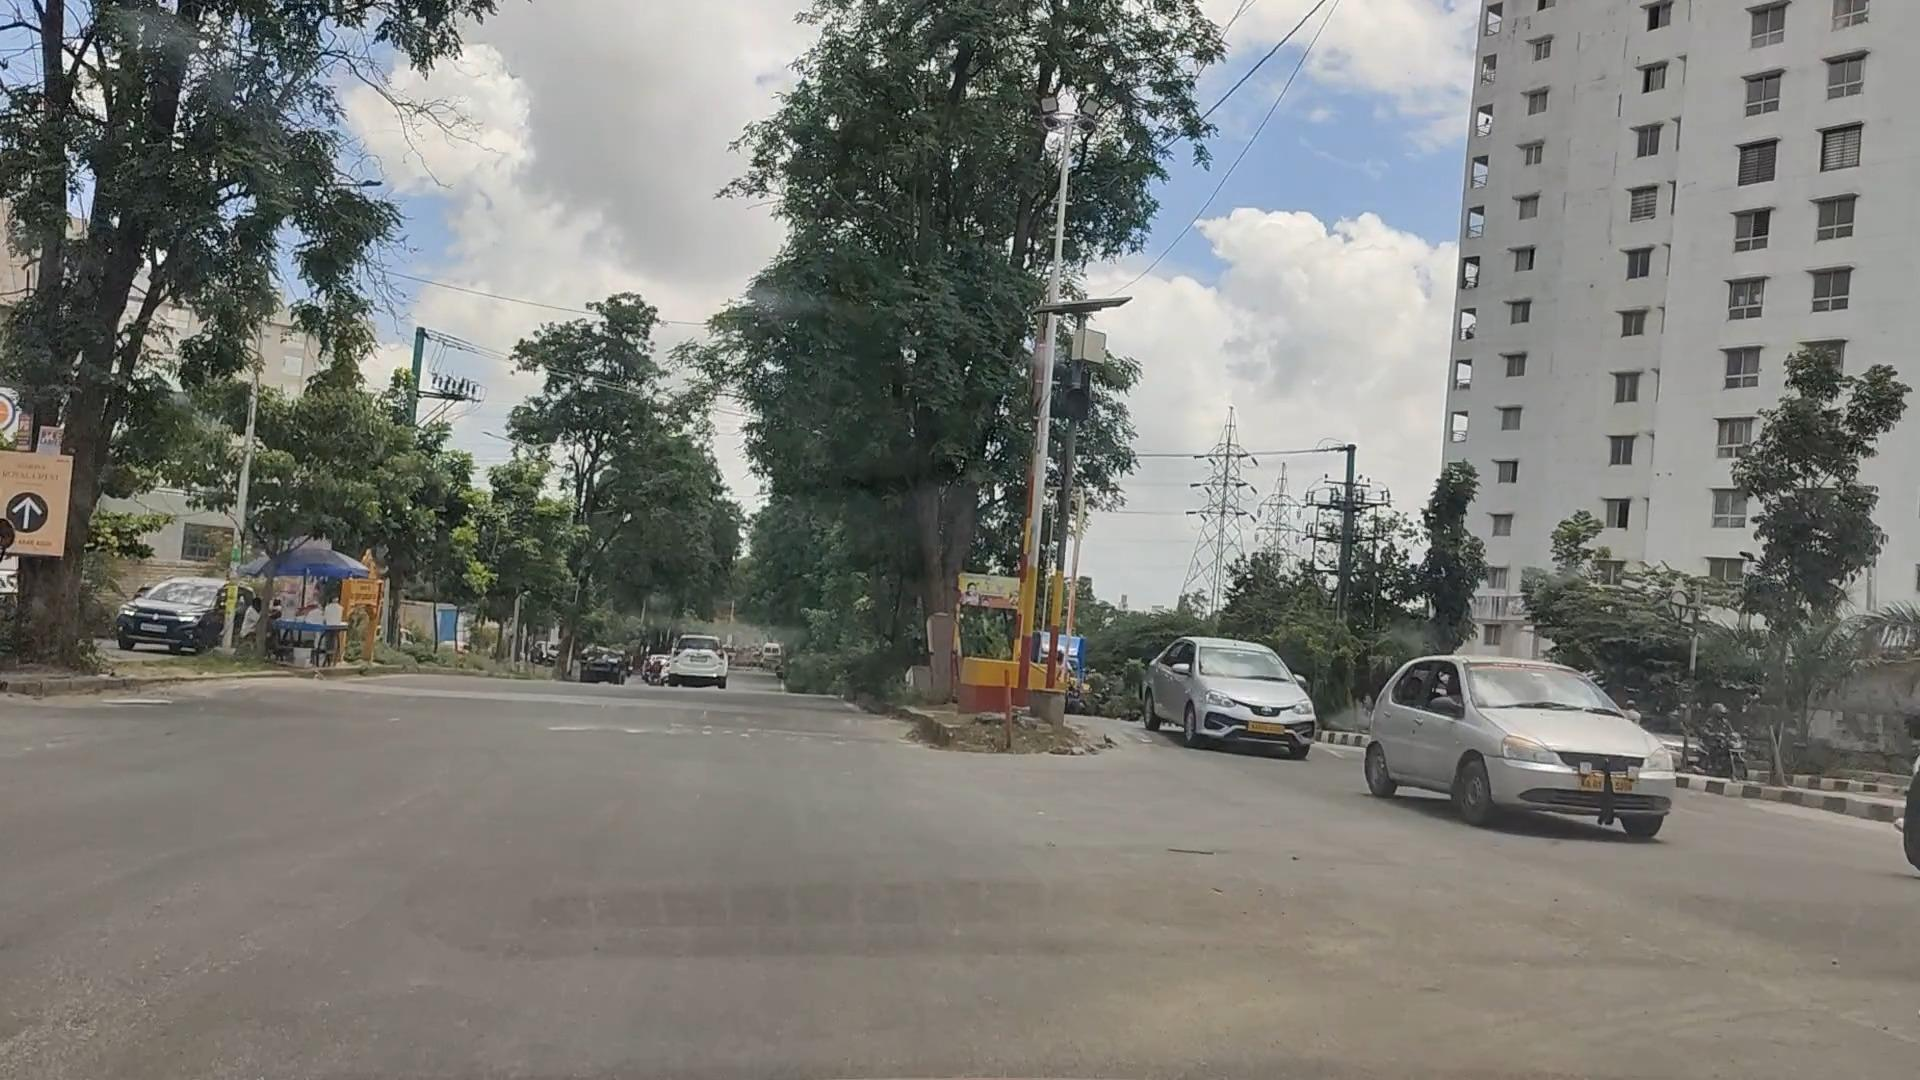LMV: (1375, 658, 1672, 833), (1139, 633, 1311, 753)
